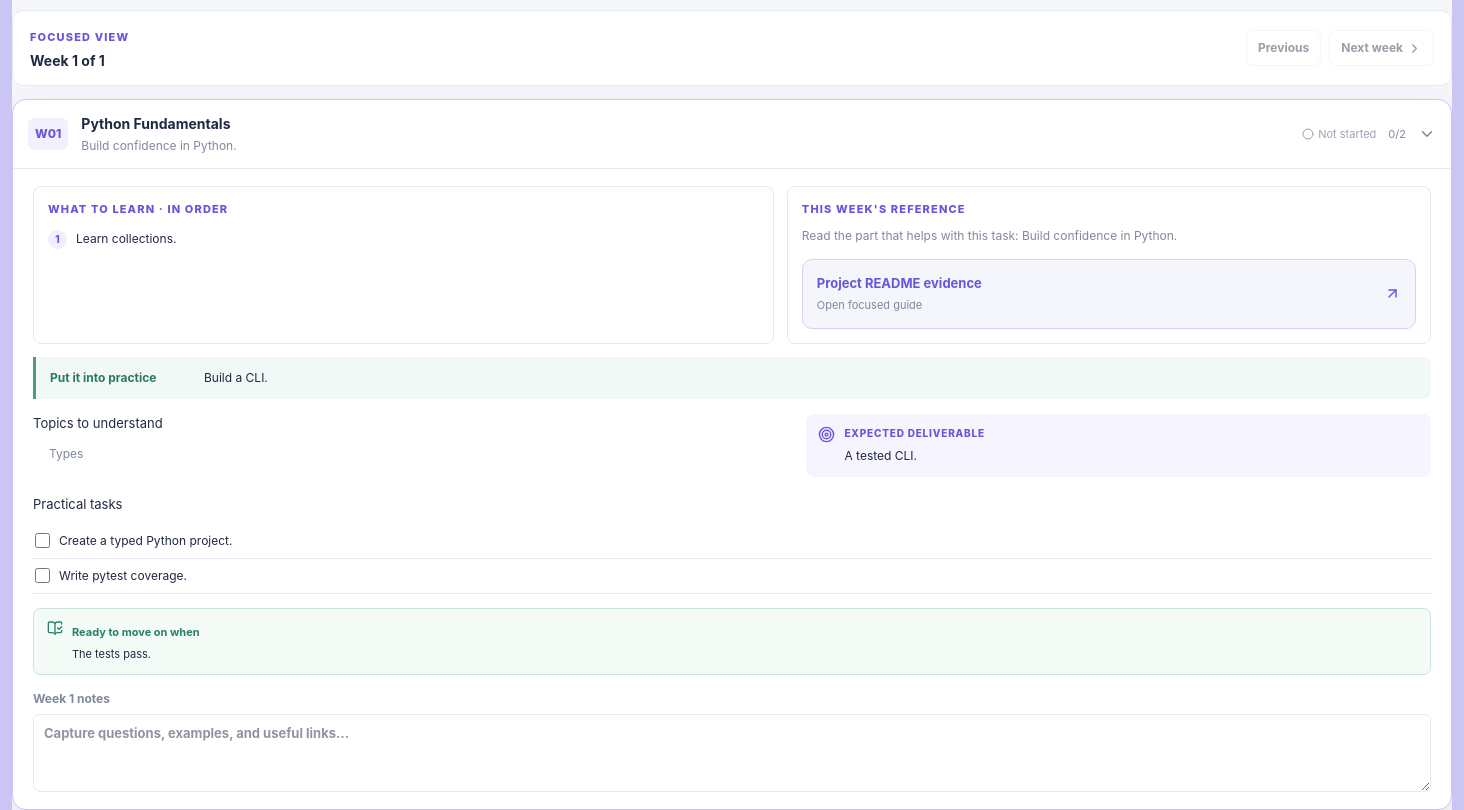
Test: roadmap task tracking › toggles individual task state and restores it from LocalStorage
Later steps or results of the test are not shown.
(page scrolled)
Click the checkbox labelled "Create a typed Python project." at (42,540), box [35,533,50,548]
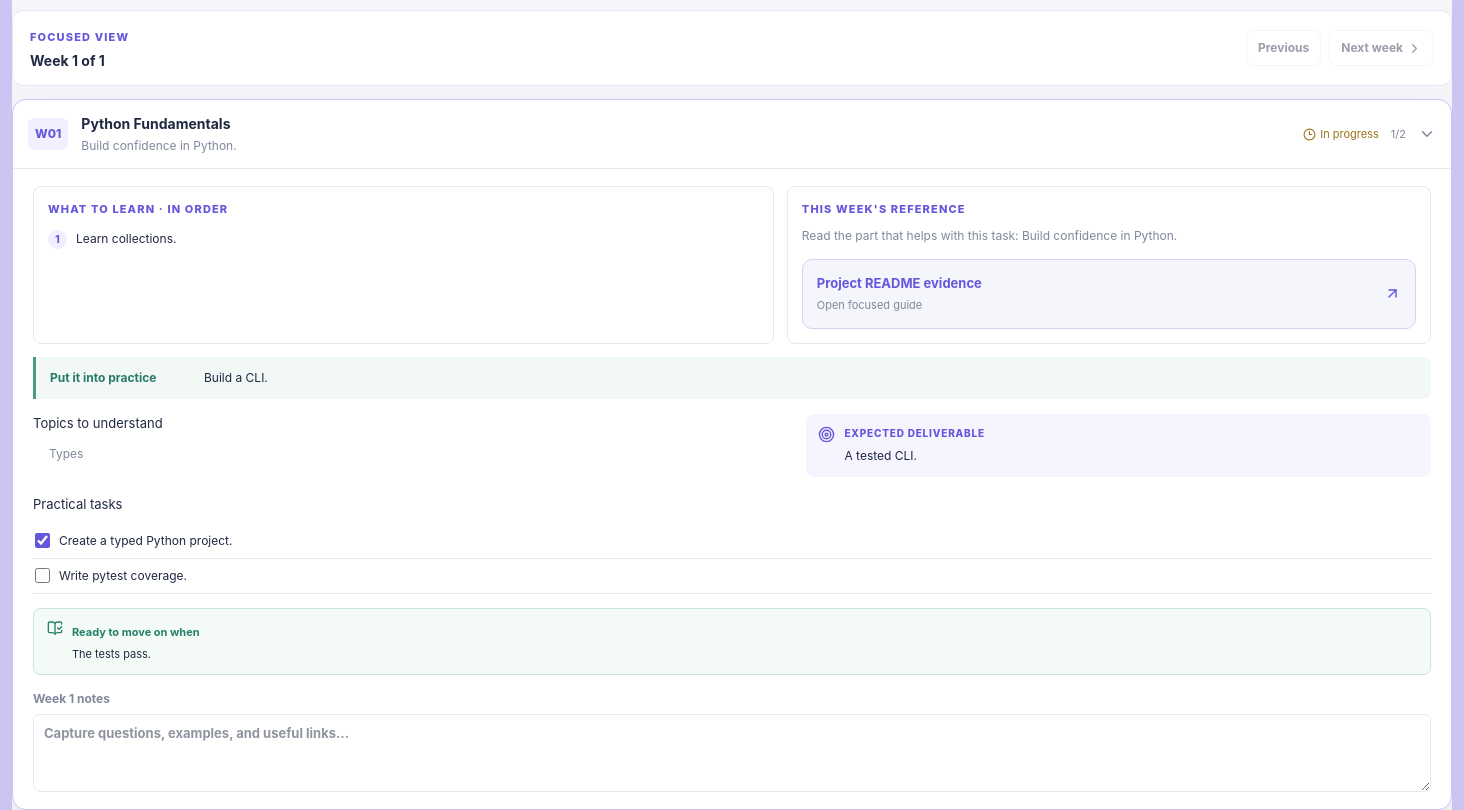
Result: the checkbox labelled "Create a typed Python project." is checked at [35,533,50,548]
